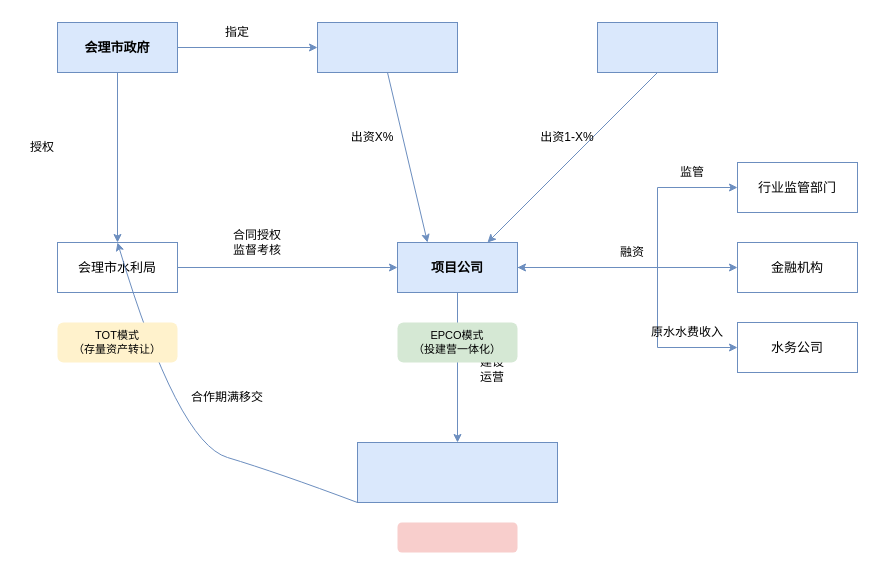
The diagram is 875 pixels wide and 569 high, and some of its shapes have lost their labels. The shapes that lost their labels are listed below. From the top down, each one's centre as x and y in pixels, then its label:
the point at 387,47: 会理市平台公司
the point at 657,47: 中国水务
the point at 457,472: 会理市城乡供水 一体化特许经营项目
the point at 457,537: 合作期限：40年
